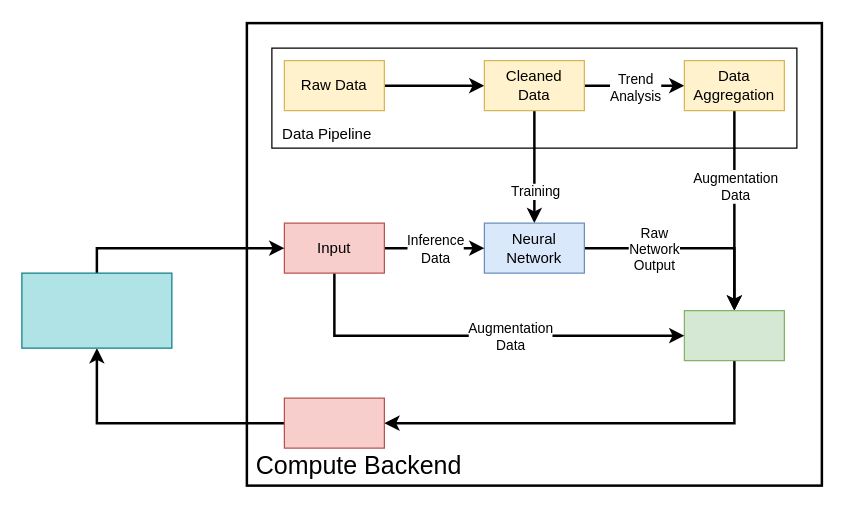
This 845x508 diagram has some shape labels left out. The shapes that lost their labels are listed below. From the top down, each one's box as (x1, y1, x2, y2) in pixels, then its label:
(21, 272, 172, 348): Webapp UI
(683, 309, 784, 361): LLM API
(283, 397, 384, 448): Output
